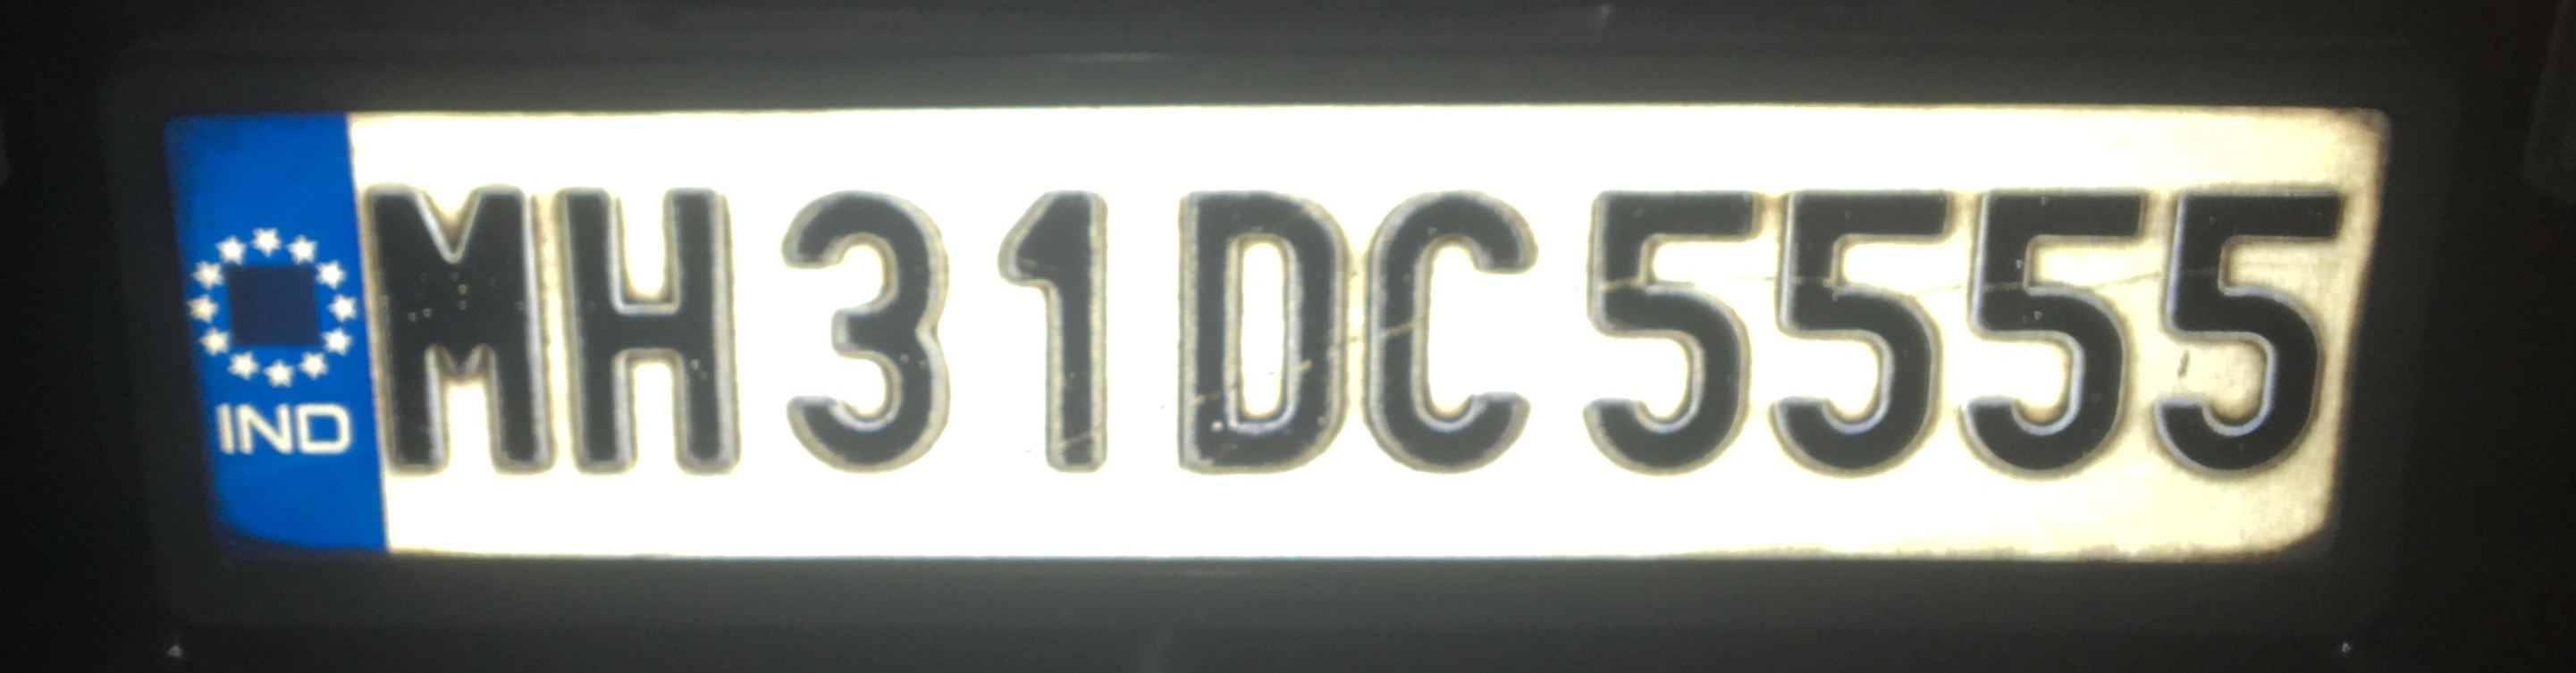numberplate: (118, 72, 2379, 604)
